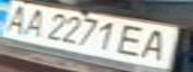1: (93, 19, 121, 53)
2: (39, 10, 69, 44), (57, 12, 81, 46)
7: (78, 16, 100, 50)
A: (133, 27, 181, 63), (15, 7, 51, 38), (0, 1, 33, 34)
E: (115, 22, 154, 58)
